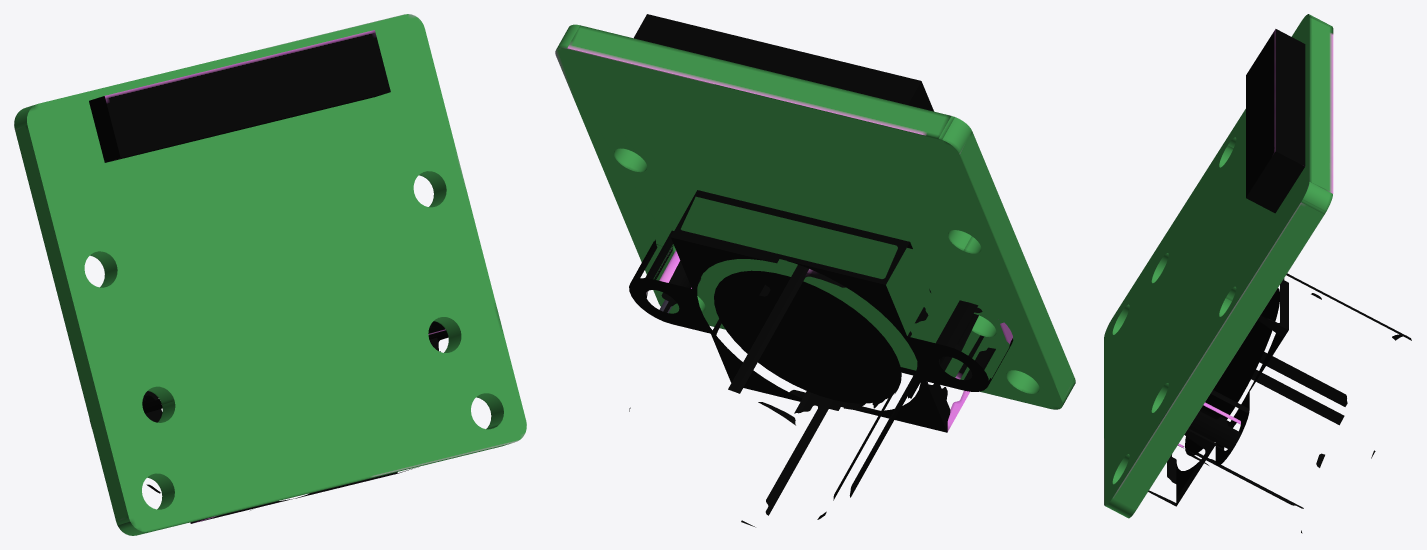
File: camera_left.dae
The picture shows the model from 3 angles, left to right: view 1: azimuth 30°, elevation 25°; view 2: azimuth 150°, elevation 25°; view 3: azimuth 270°, elevation 25°; orthographic projection. The views are drawn at different scales.
Visible parts, largest first — view 1: tmp_export_camera_left; view 2: tmp_export_camera_left; view 3: tmp_export_camera_left.
Part boxes in pixels (bbox=[...]): tmp_export_camera_left: bbox=[14, 14, 526, 535]; tmp_export_camera_left: bbox=[555, 14, 1075, 527]; tmp_export_camera_left: bbox=[1104, 14, 1411, 533].
Size of the model in its own units: 0.025 by 0.0181 by 0.0281.
1 material, 1 textured.
